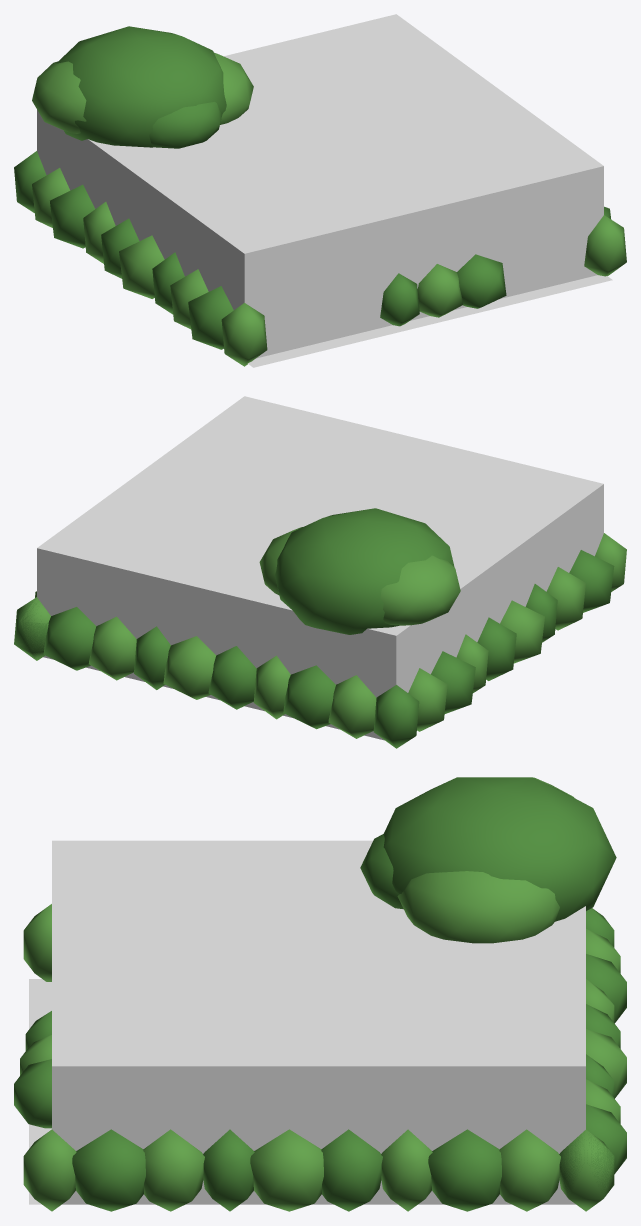
File: zone_base.glb
The picture shows the model from 3 angles, top to bottom: view 1: azimuth 30°, elevation 25°; view 2: azimuth 150°, elevation 25°; view 3: azimuth 270°, elevation 25°; orthographic projection. The views are drawn at different scales.
Visible parts, largest first — view 1: ZONE_base, TREE_base_big, BUSH_west, BUSH_gate_base, FLOOR_base, BUSH_east; view 2: ZONE_base, BUSH_north, TREE_base_big, BUSH_west, BUSH_east; view 3: ZONE_base, BUSH_east, TREE_base_big, BUSH_north, BUSH_gate_base, BUSH_west, FLOOR_base.
Boxes of the visible parts, x1,y1,x2,y2 form: ZONE_base: [37, 14, 603, 358]; TREE_base_big: [32, 26, 253, 148]; BUSH_west: [14, 151, 267, 366]; BUSH_gate_base: [380, 254, 506, 326]; FLOOR_base: [248, 275, 612, 367]; BUSH_east: [584, 206, 626, 276]; ZONE_base: [37, 396, 603, 740]; BUSH_north: [16, 597, 416, 747]; TREE_base_big: [259, 508, 460, 634]; BUSH_west: [373, 533, 626, 748]; BUSH_east: [14, 591, 48, 659]; ZONE_base: [52, 840, 585, 1204]; BUSH_east: [23, 1129, 614, 1211]; TREE_base_big: [360, 777, 616, 943]; BUSH_north: [559, 929, 626, 1211]; BUSH_gate_base: [14, 1011, 51, 1128]; BUSH_west: [23, 904, 614, 981]; FLOOR_base: [29, 979, 51, 1204].
Size of what is drawn, in the model's own units: 16.25 by 6.91 by 16.07.
